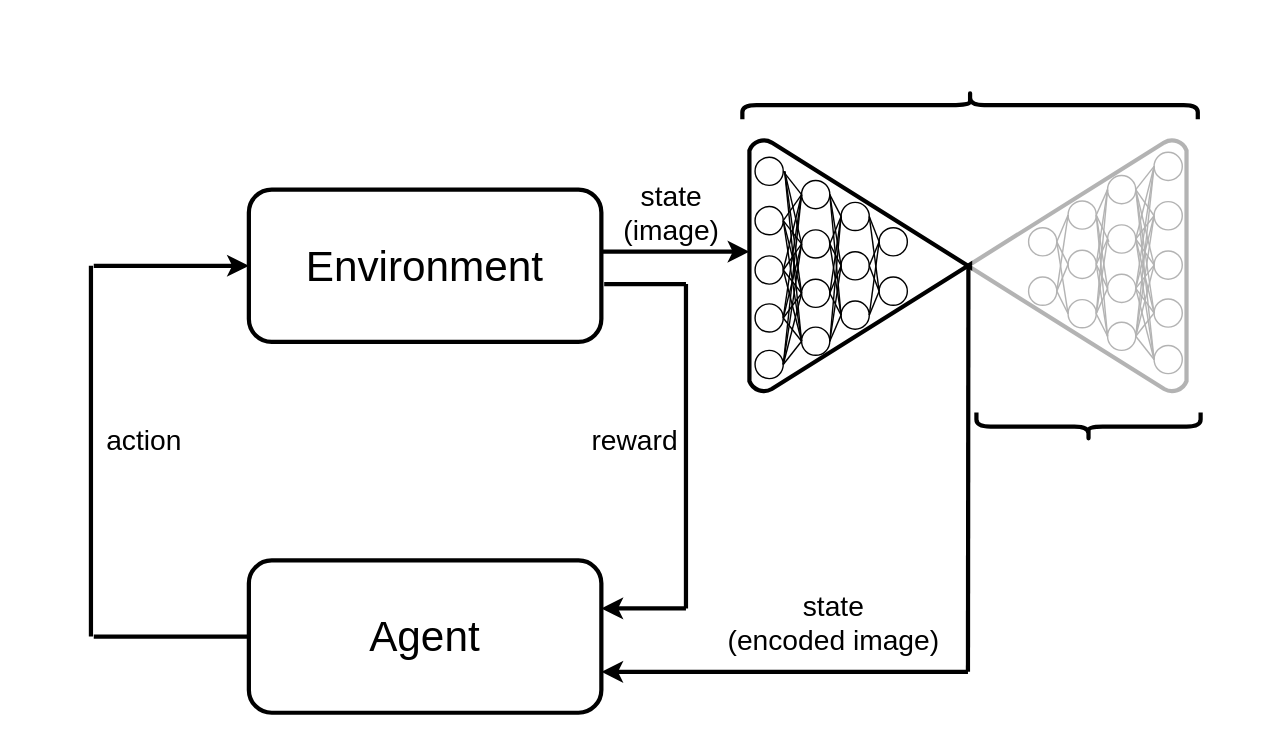
Image size: 1270x739. Some labels were removed from this diagram. The shapes that lost their labels are listed below. From the top down, each one's centre as x and y in pixels, then its label:
(969,104): convolutional autoencoder
(1088,426): decoder not used
